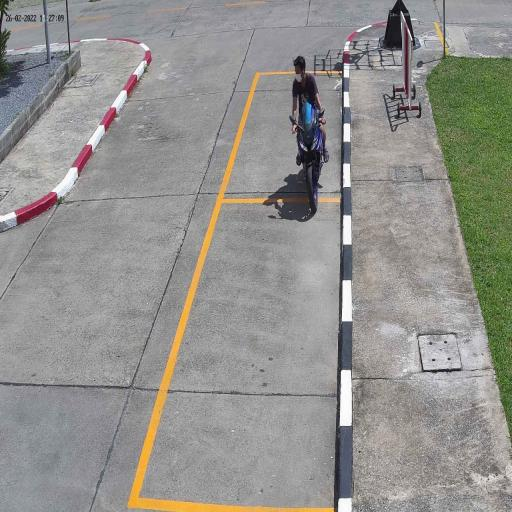motorcycle: (297, 103, 325, 216)
